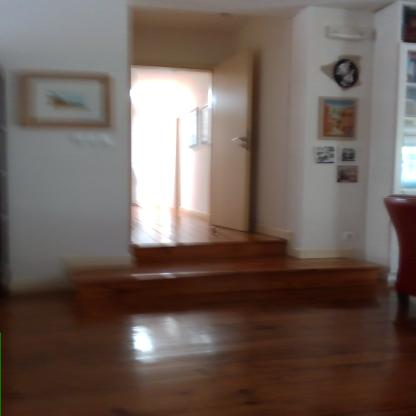closed: (116, 44, 259, 238)
